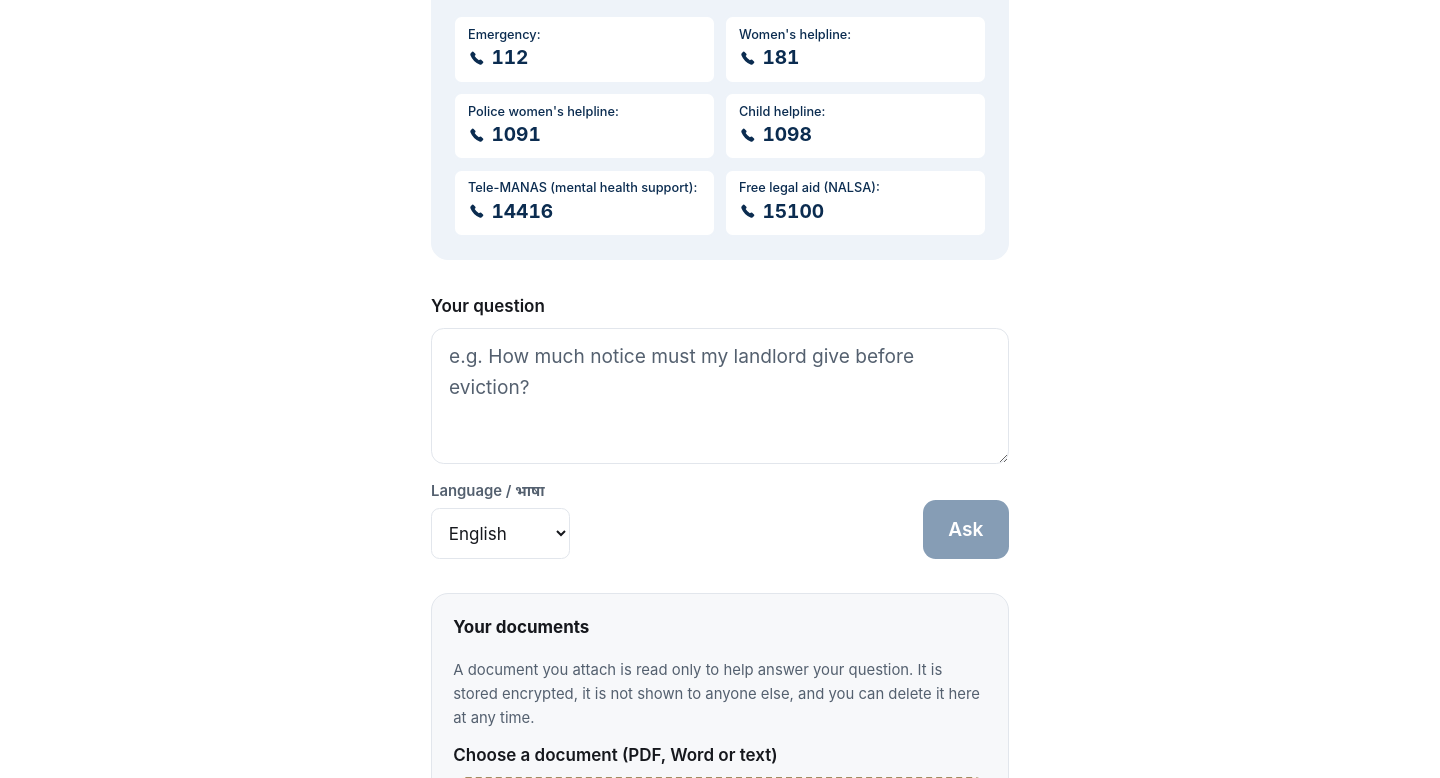
Test: HomePage › shows the static fallback helplines when the server told us nothing at all (re-review HIGH)
(page scrolled)
Type "q" into the text box labelled "Your question" at (720, 396), box [431,328,1009,464]
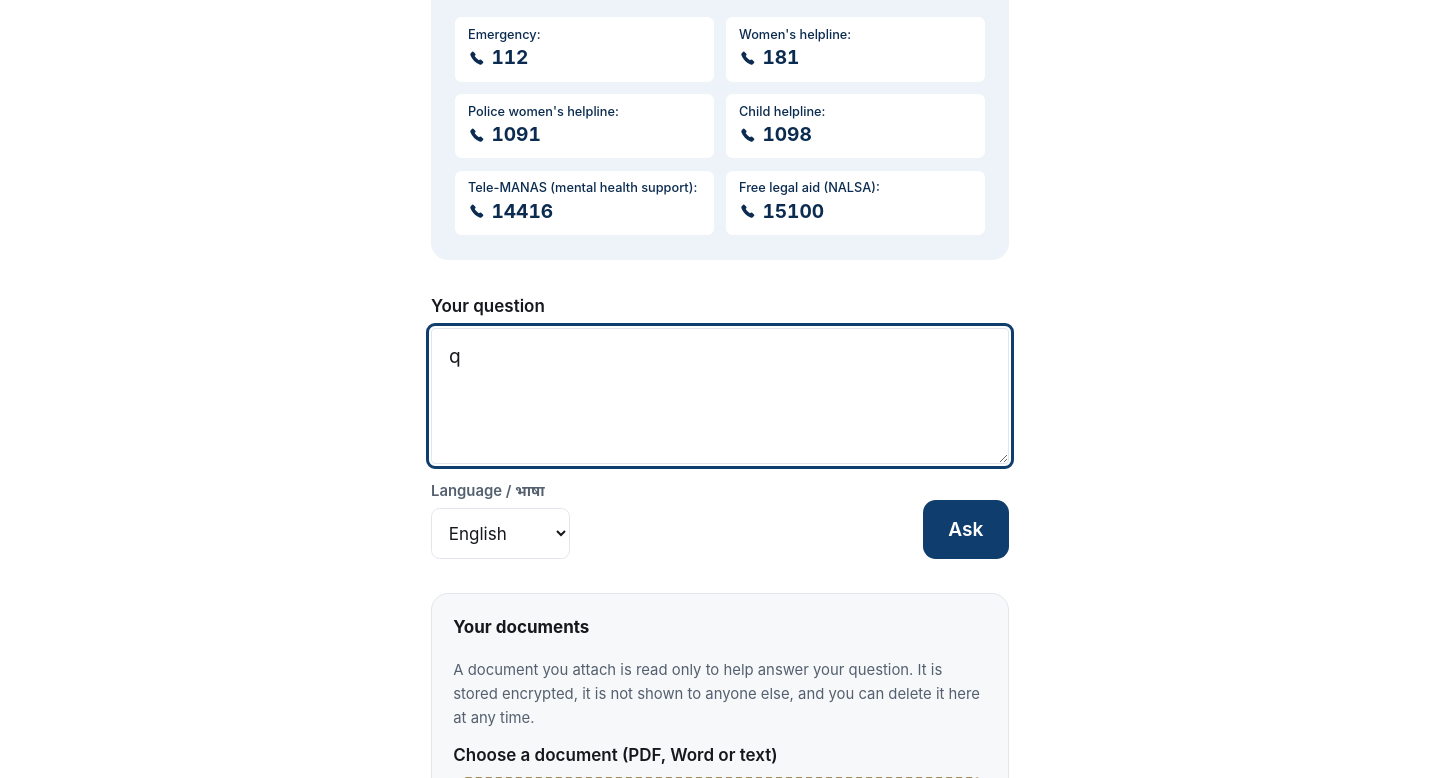
Click the button "Ask" at (966, 529), box [923,500,1009,559]
(page scrolled)
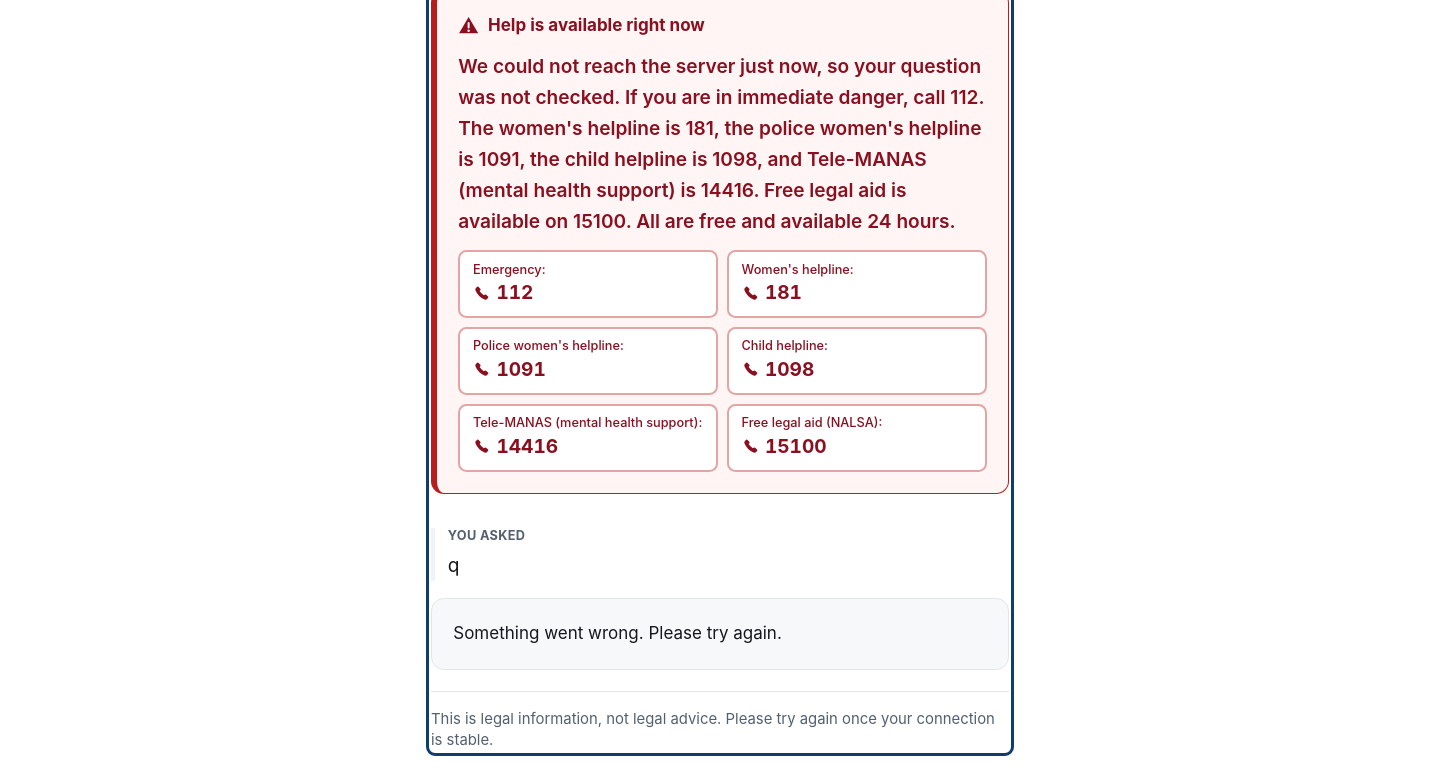
Check: the message shows "could not reach the server", box [458,54,984,233]
Check: the link to "tel:112" reads "Emergency: 112", box [458,250,718,318]
Check: the link to "tel:15100" is shown, box [727,404,987,472]
